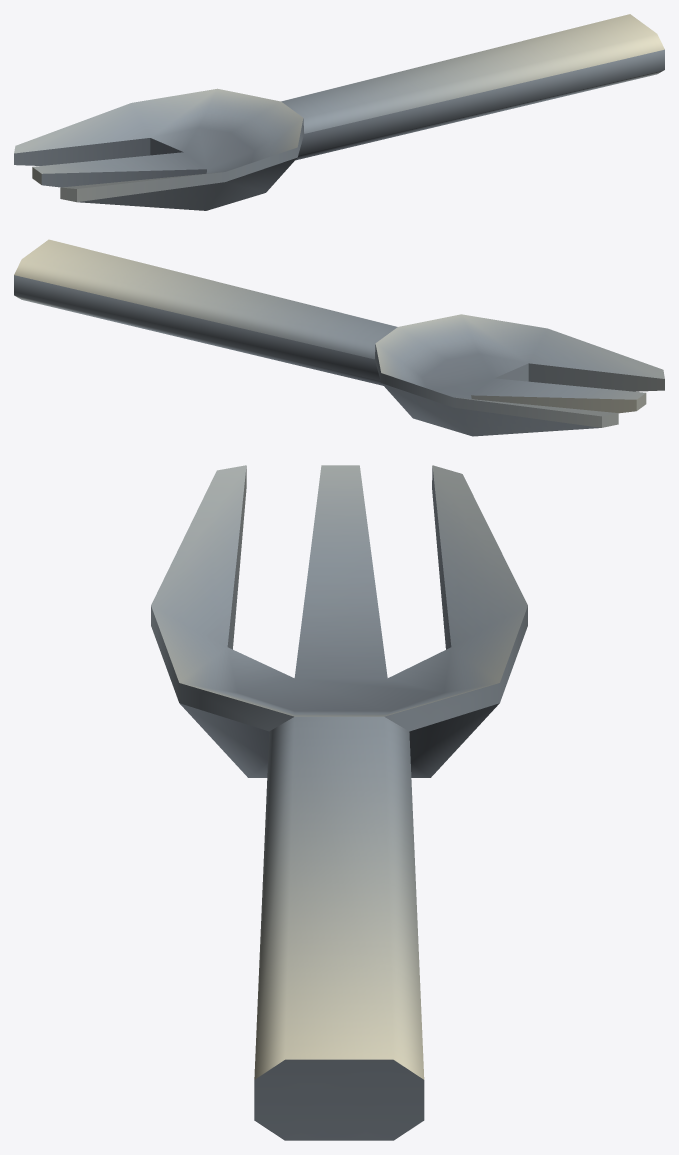
File: fork_cuttlery_silver.fbx
3 views of the same model, one above another, from view 1: azimuth 30°, elevation 25°; view 2: azimuth 150°, elevation 25°; view 3: azimuth 270°, elevation 25° (orthographic). The views are drawn at different scales.
Visible parts, largest first — view 1: fork_cuttlery_silver; view 2: fork_cuttlery_silver; view 3: fork_cuttlery_silver.
Boxes of the visible parts, bbox=[...] form: fork_cuttlery_silver: bbox=[14, 14, 664, 210]; fork_cuttlery_silver: bbox=[14, 239, 664, 436]; fork_cuttlery_silver: bbox=[151, 465, 527, 1140].
Bounding box in the file's own units: 35.39 × 3.68 × 9.53.
